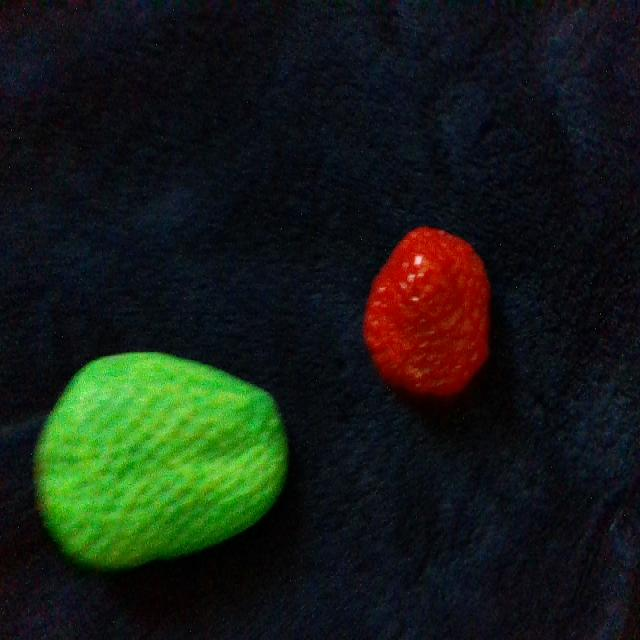chica_roja: (365, 228, 489, 393)
verde: (36, 353, 287, 568)
